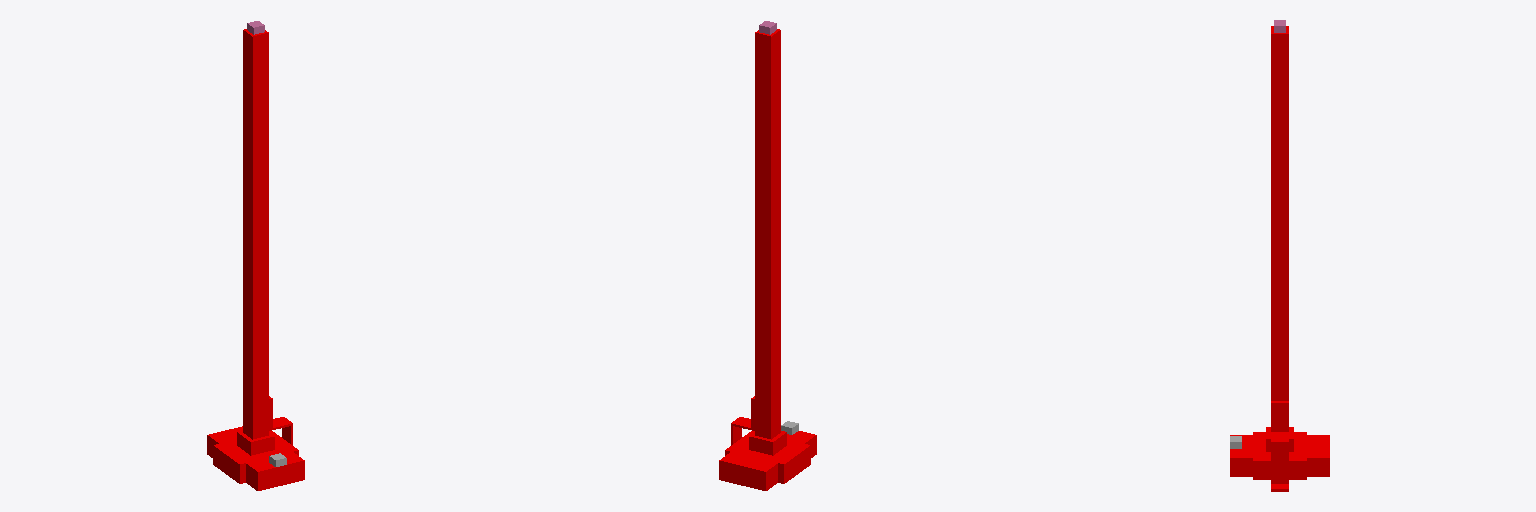
URDF robot description (platformbot):
<?xml version="1.0"?>
<robot name="platformbot">

    <link name="base_footprint">
   <visual>
      <origin xyz="0 0 0" rpy="0 0 0" />
      <geometry>
        <box size="0.001 0.001 0.001" />
      </geometry>
    </visual>
  </link>

  <joint name="base_link_joint" type="fixed">
    <origin xyz="0.0 0 0.05" rpy="0 0 0" />
    <parent link="base_footprint"/>
    <child link="base_link" />
  </joint>

  
	<link name="base_link">
    <visual>
      <geometry>
        <box size="0.292 0.227 0.0925"/>
      </geometry>
      <material name="silver">
        <color rgba="1.0 0.0 0.0 1"/>
      </material>
    </visual>
    <collision>
      <geometry>
        <box size="0.227 0.292 0.0925"/>
      </geometry>
    </collision>
    <inertial>
      <mass value="8.6"/>
      <inertia ixx="0.067238" iyy="0.043061" izz="0.098035" ixy="0" ixz="0" iyz="0"/>
    </inertial>
  </link>




	<link name="front_box">
    <visual>
      <geometry>
        <box size="0.231 0.1025 0.0925"/>
      </geometry>
      <material name="silver"/>
    </visual>
    <collision>
      <geometry>
        <box size="0.1025 0.231 0.0925"/>
      </geometry>
    </collision>
    <inertial>
      <mass value="3"/>
      <inertia ixx="0.015967" iyy="0.004766" izz="0.015967" ixy="0" ixz="0" iyz="0"/>
    </inertial>
  </link>

  <joint name="front_joint" type="fixed">
    <axis xyz="0 1 0"/>
    <parent link="base_link"/>
    <child link="front_box"/>
    <origin rpy="0 0 0" xyz="0 0.16475 0"/>
  </joint>



	<link name="back_box">
    <visual>
      <geometry>
        <box size="0.231 0.1025 0.0925"/>
      </geometry>
      <material name="silver"/>
    </visual>
    <collision>
      <geometry>
        <box size="0.1025 0.231 0.0925"/>
      </geometry>
    </collision>
    <inertial>
      <mass value="3"/>
      <inertia ixx="0.015967" iyy="0.004766" izz="0.015967" ixy="0" ixz="0" iyz="0"/>
    </inertial>
  </link>

  <joint name="back_joint" type="fixed">
    <axis xyz="0 1 0"/>
    <parent link="base_link"/>
    <child link="back_box"/>
    <origin rpy="0 0 0" xyz="0 -0.16475 0"/>
  </joint>




	<link name="mounting_base">
    <visual>
      <geometry>
        <box size="0.120 0.120 0.065"/>
      </geometry>
      <material name="silver"/>
    </visual>
    <collision>
      <geometry>
        <box size="0.120 0.120 0.065"/>
      </geometry>
    </collision>
    <inertial>
      <mass value="3"/>
      <inertia ixx="0.00395148" iyy="0.00395148" izz="0.006110208" ixy="0" ixz="0" iyz="0"/>
    </inertial>
  </link>

  <joint name="mounting_base_joint" type="fixed">
    <axis xyz="0 0 1"/>
    <parent link="base_link"/>
    <child link="mounting_base"/>
    <origin rpy="0 0 0" xyz="0 0 0.0775"/>
  </joint>




	<link name="lift">
    <visual>
      <geometry>
        <box size="0.08 0.08 1.9"/>
      </geometry>
      <material name="silver"/>
    </visual>
    <collision>
      <geometry>
        <box size="0.08 0.08 1.9"/>
      </geometry>
    </collision>
    <inertial>
      <mass value="5"/>
      <inertia ixx="1.5068333" iyy="1.5068333" izz="0.0053333" ixy="0" ixz="0" iyz="0"/>
    </inertial>
  </link>

  <joint name="lift_joint" type="fixed">
    <axis xyz="0 0 1"/>
    <parent link="mounting_base"/>
    <child link="lift"/>
    <origin rpy="0 0 0" xyz="0 0 0.9825"/>
  </joint>




	<link name="slider">
    <visual>
      <geometry>
        <box size="0.02 0.08 0.15"/>
      </geometry>
      <material name="silver"/>
    </visual>
    <collision>
      <geometry>
        <box size="0.02 0.08 0.15"/>
      </geometry>
    </collision>
    <inertial>
      <mass value="0.6528"/>
      <inertia ixx="0.00157216" iyy="0.00124576" izz="0.00036992" ixy="0" ixz="0" iyz="0"/>
    </inertial>
  </link>

  <joint name="slider_joint" type="prismatic">
    <axis xyz="0 0 1"/>
    <parent link="lift"/>
    <child link="slider"/>
    <origin rpy="0 0 0" xyz="0.05 0 -0.855"/>
		<limit lower="0" upper="1.73" effort="20000.0" velocity="0.02" />
		<dynamics damping="100.0" />
  </joint>




	<link name="horizontal_beam">
    <visual>
      <geometry>
        <box size="0.1 0.08 0.01"/>
      </geometry>
      <material name="silver"/>
    </visual>
    <collision>
      <geometry>
        <box size="0.1 0.08 0.01"/>
      </geometry>
    </collision>
    <inertial>
      <mass value="0.2176"/>
      <inertia ixx="0.000117867" iyy="0.000183147" izz="0.000297387" ixy="0" ixz="0" iyz="0"/>
    </inertial>
  </link>

  <joint name="horizontal_beam_joint" type="fixed">
    <axis xyz="1 0 1"/>
    <parent link="slider"/>
    <child link="horizontal_beam"/>
    <origin rpy="0 0 0" xyz="0.06 0 -0.07"/>
  </joint>




	<link name="vertical_beam">
    <visual>
      <geometry>
        <box size="0.01 0.08 0.2"/>
      </geometry>
      <material name="silver"/>
    </visual>
    <collision>
      <geometry>
        <box size="0.01 0.08 0.2"/>
      </geometry>
    </collision>
    <inertial>
      <mass value="0.4352"/>
      <inertia ixx="0.001682773" iyy="0.001454293" izz="0.000235733" ixy="0" ixz="0" iyz="0"/>
    </inertial>
  </link>

  <joint name="vertical_beam_joint" type="fixed">
    <axis xyz="1 0 1"/>
    <parent link="horizontal_beam"/>
    <child link="vertical_beam"/>
    <origin rpy="0 0 0" xyz="0.045 0 -0.105"/>
  </joint>



	<link name="key_holder">
    <visual>
      <geometry>
        <box size="0.05 0.08 0.01"/>
      </geometry>
      <material name="silver"/>
    </visual>
    <collision>
      <geometry>
        <box size="0.05 0.08 0.01"/>
      </geometry>
    </collision>
    <inertial>
      <mass value="0.4352"/>
      <inertia ixx="0.000058933" iyy="0.000023573" izz="0.000080693" ixy="0" ixz="0" iyz="0"/>
    </inertial>
  </link>

  <joint name="key_holder_joint" type="fixed">
    <axis xyz="1 0 1"/>
    <parent link="vertical_beam"/>
    <child link="key_holder"/>
    <origin rpy="0 0 0" xyz="0.030 0 -0.095"/>
  </joint>




	<link name="front_right_wheel">
    <inertial>
      <origin xyz="1 1 1" rpy="0 0 0" />
      <mass value="0.35" />
      <inertia ixx="0.000295835" iyy="0.000451612" izz="0.000295835" ixy="0" ixz="0" iyz="0"/>
    </inertial>
    <visual>
      <origin xyz="0 0 0" rpy="0 0 0" />
      <geometry>
	<mesh filename="package://mecanum_bot/urdf/wheel.STL" />
      </geometry>
      <material name="">
        <color rgba="0.5 0.5 0.5 1" />
      </material>
    </visual>
    <collision>
      <origin xyz="0 0 0" rpy="0 0 0" />
      <geometry>
      </geometry>
    </collision>
  </link>

	<joint name="front_right_wheel_joint" type="fixed">
    <axis xyz="0 0 1"/>
    <parent link="base_link"/>
    <child link="front_right_wheel"/>
    <origin rpy="0 0 -3.1415926" xyz="-0.12 0.1742 -.0178"/>
  </joint>




	<link name="front_left_wheel">
    <inertial>
      <origin xyz="1 1 1" rpy="0 0 0" />
      <mass value="0.35" />
      <inertia ixx="0.000295835" iyy="0.000451612" izz="0.000295835" ixy="0" ixz="0" iyz="0"/>
    </inertial>
    <visual>
      <origin xyz="0 0 0" rpy="0 0 0" />
      <geometry>
	<mesh filename="package://mecanum_bot/urdf/wheel.STL" />
      </geometry>
      <material name="">
        <color rgba="0.5 0.5 0.5 1" />
      </material>
    </visual>
   <collision>
      <origin xyz="0 0 0" rpy="0 0 0" />
      <geometry>
      </geometry>
    </collision>
  </link>
  

	<joint name="front_left_wheel_joint" type="fixed">
    <axis xyz="1 0 0"/>
    <parent link="base_link"/>
    <child link="front_left_wheel"/>
    <origin rpy="0 0 0" xyz="0.12 0.1742 -.0178"/>
  </joint>





	<link name="back_right_wheel">
    <inertial>
      <origin xyz="1 1 1" rpy="0 0 0" />
      <mass value="0.35" />
      <inertia ixx="0.000295835" iyy="0.000451612" izz="0.000295835" ixy="0" ixz="0" iyz="0"/>
    </inertial>
    <visual>
      <origin xyz="0 0 0" rpy="0 0 0" />
      <geometry>
	<mesh filename="package://mecanum_bot/urdf/wheel.STL" />
      </geometry>
      <material name="">
        <color rgba="0.5 0.5 0.5 1" />
      </material>
    </visual>
    <collision>
      <origin xyz="0 0 0" rpy="0 0 0" />
      <geometry>
      </geometry>
    </collision>
  </link>

	<joint name="back_right_wheel_joint" type="fixed">
    <axis xyz="1 0 0"/>
    <parent link="base_link"/>
    <child link="back_right_wheel"/>
    <origin rpy="0 0 -3.1415926" xyz="-0.12 -0.1742 -.0178"/>
  </joint>




	<link name="back_left_wheel">
    <inertial>
      <origin xyz="1 1 1" rpy="0 0 0" />
      <mass value="0.35" />
      <inertia ixx="0.000295835" iyy="0.000451612" izz="0.000295835" ixy="0" ixz="0" iyz="0"/>
    </inertial>
    <visual>
      <origin xyz="0 0 0" rpy="0 0 0" />
      <geometry>
	<mesh filename="package://mecanum_bot/urdf/wheel.STL" />
      </geometry>
      <material name="">
        <color rgba="1 0.5 0.5 1" />
      </material>
    </visual>
    <collision>
      <origin xyz="0 0 0" rpy="0 0 0" />
      <geometry>
      </geometry>
    </collision>
  </link>

	<joint name="back_left_wheel_joint" type="fixed">
    <axis xyz="0 0 1"/>
    <parent link="base_link"/>
    <child link="back_left_wheel"/>
    <origin rpy="0 0 0" xyz="0.12 -0.1742 -.0178"/>
  </joint>





<link name="beacon_1">
  <visual>
    <geometry>
      <box size= "0.055 0.055 0.033"/>
    </geometry>
  </visual>
</link>




<link name="beacon_2">
  <visual>
    <geometry>
      
      <box size= "0.055 0.055 0.033"/>
    </geometry>
  </visual>
</link>



<joint name = "beacon_1_joint" type="fixed">
    <parent link="lift"/>
    <child link="beacon_1" />
    <origin xyz="0 0 0.9665" rpy="0 0 0" />	
</joint>



<joint name = "beacon_2_joint" type="fixed">
    <parent link="base_link"/>
    <child link="beacon_2" />
    <origin xyz="0 -0.1885 0.06275" rpy="0 0 0" />	
</joint>




  <gazebo reference="beacon_1">
    <material>Gazebo/Orange</material>
  </gazebo>

  <gazebo reference="beacon_2">
    <material>Gazebo/Orange</material>
  </gazebo>





	<link name="back_right_wheel_sp">
    <visual>
      <geometry>
        <cylinder length="0.001" radius="0.001"/>
      </geometry>
    </visual>

    <collision>
      <geometry>
        <sphere radius="0.0508"/>
      </geometry>
    </collision>

    <inertial>
      <mass value="0.35"/>
      <inertia ixx="0.000295835" iyy="0.000451612" izz="0.000295835" ixy="0" ixz="0" iyz="0"/>
    </inertial>
  </link>

  <joint name="back_right_wheel_joint_sp" type="continuous">
    <axis xyz="0 0 1"/>
    <parent link="base_link"/>
    <child link="back_right_wheel_sp"/>
    <origin rpy="-1.5708 0 1.5708" xyz="-0.142 -0.1742 -.0178"/>
  </joint>



  <link name="front_right_wheel_sp">
    <visual>
      <geometry>
        <cylinder length="0.001" radius="0.001"/>
      </geometry>
    </visual>

    <collision>
      <geometry>
        <sphere radius="0.0508"/>
      </geometry>
    </collision>

    <inertial>
     	<mass value="0.35"/>
      <inertia ixx="0.000295835" iyy="0.000451612" izz="0.000295835" ixy="0" ixz="0" iyz="0"/>
    </inertial>
  </link>

  <joint name="front_right_wheel_joint_sp" type="continuous">
    <axis xyz="0 0 1"/>
    <parent link="base_link"/>
    <child link="front_right_wheel_sp"/>
    <origin rpy="-1.5708 0 1.5708" xyz="-0.142 0.1742 -.0178"/>
  </joint>



  <link name="back_left_wheel_sp">
    <visual>
      <geometry>
        <cylinder length="0.001" radius="0.001"/>
      </geometry>
      <material name="black"/>
    </visual>

    <collision>
      <geometry>
        <sphere radius="0.0508"/>
      </geometry>
    </collision>

    <inertial>
      <mass value="0.35"/>
      <inertia ixx="0.000295835" iyy="0.000451612" izz="0.000295835" ixy="0" ixz="0" iyz="0"/>
    </inertial>
  </link>

  <joint name="back_left_wheel_joint_sp" type="continuous">
    <axis xyz="0 0 1"/>
    <parent link="base_link"/>
    <child link="back_left_wheel_sp"/>
    <origin rpy="-1.5708 0 1.5708" xyz="0.142 -0.1742 -.0178"/>
  </joint>



	<link name="front_left_wheel_sp">
    <visual>
      <geometry>
        <cylinder length="0.001" radius="0.001"/>
      </geometry>
      <material name="black"/>
    </visual>
  

    <collision>
      <geometry>
        <sphere radius="0.0508"/>
      </geometry>
    </collision>

    <inertial>
      <mass value="0.35"/>
      <inertia ixx="0.000295835" iyy="0.000451612" izz="0.000295835" ixy="0" ixz="0" iyz="0"/>
    </inertial>
  </link>

  <joint name="front_left_wheel_joint_sp" type="continuous">
    <axis xyz="0 0 1"/>
    <parent link="base_link"/>
    <child link="front_left_wheel_sp"/>
    <origin rpy="-1.5708 0 1.5708" xyz="0.142 0.1742 -.0178"/>
  </joint>








	<gazebo>
    <plugin name="object_controller" filename="libgazebo_ros_force_based_move.so">
      <commandTopic>cmd_vel</commandTopic>
      <odometryTopic>odom</odometryTopic>
      <odometryFrame>odom</odometryFrame>
      <odometryRate>20.0</odometryRate>
      <robotBaseFrame>base_footprint</robotBaseFrame>
    </plugin>
  </gazebo>





</robot>

--- Render facts (derived) ---
3 views of the same robot in one strip: view 1: azimuth 30°, elevation 25°; view 2: azimuth 150°, elevation 25°; view 3: azimuth 270°, elevation 25° (orthographic).
Robot: platformbot — 20 links, 19 joints (4 continuous, 1 prismatic, 14 fixed); root link base_footprint; default pose: every joint at zero.
Visible links, largest first — view 1: lift, base_link, back_box, mounting_base; view 2: lift, front_box, base_link, mounting_base; view 3: lift, base_link, front_box, back_box, vertical_beam, slider.
Boxes of the visible links, x1=… form: lift: x1=243, y1=29, x2=268, y2=439; base_link: x1=213, y1=431, x2=298, y2=483; back_box: x1=246, y1=452, x2=304, y2=490; mounting_base: x1=237, y1=431, x2=274, y2=455; lift: x1=755, y1=29, x2=780, y2=439; front_box: x1=719, y1=452, x2=777, y2=490; base_link: x1=725, y1=431, x2=810, y2=483; mounting_base: x1=749, y1=431, x2=786, y2=455; lift: x1=1271, y1=26, x2=1288, y2=400; base_link: x1=1253, y1=432, x2=1306, y2=479; front_box: x1=1307, y1=435, x2=1329, y2=476; back_box: x1=1230, y1=435, x2=1252, y2=476; vertical_beam: x1=1271, y1=444, x2=1288, y2=483; slider: x1=1271, y1=401, x2=1288, y2=431.
Bounding box of the posed robot: 0.356 × 0.432 × 2.11 m (x, y, z).
0 mesh visuals loaded from 1 distinct referenced files (none loaded); not drawn: 4 (reference not matched to a file when rendering).
